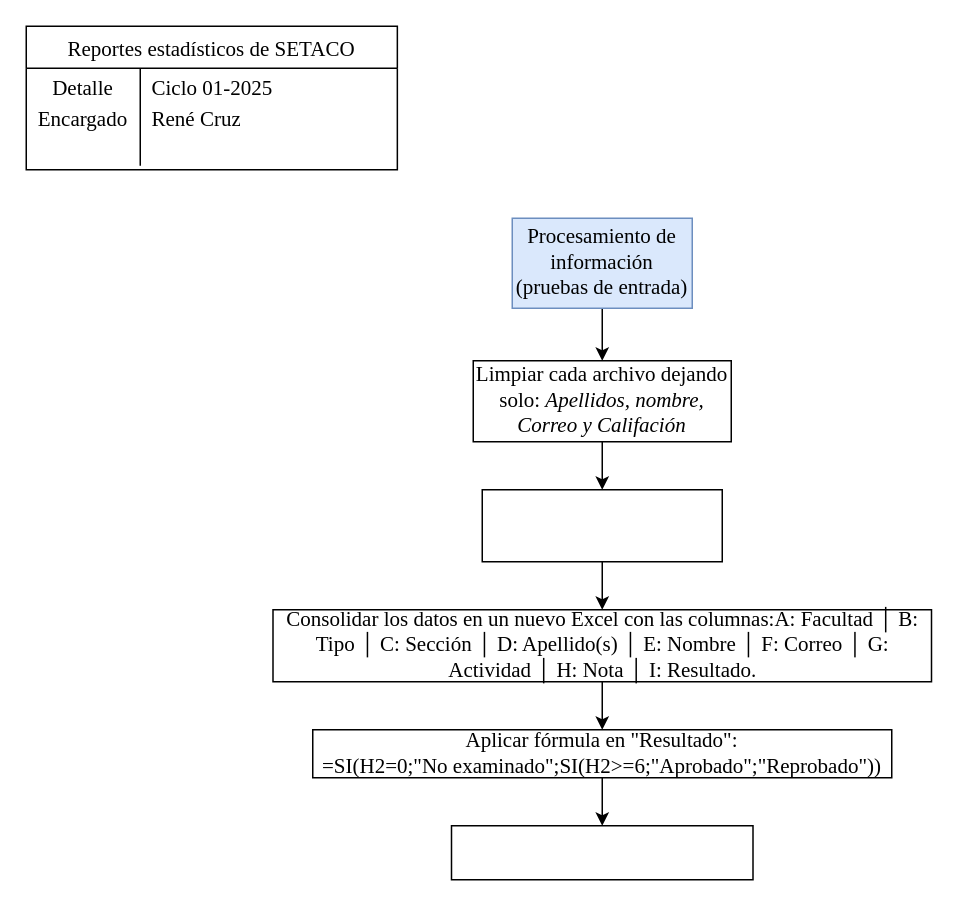
This 959x906 diagram has some shape labels left out. The shapes that lost their labels are listed below. From the top down, each one's centre as x and y in pixels, then its label:
At (601,525): "Agregar las columnas: Facultad y Tipo (Virtual/Presencial)".
At (601,852): "Verificar que los decimales usen punto (.) y no coma (,)".
